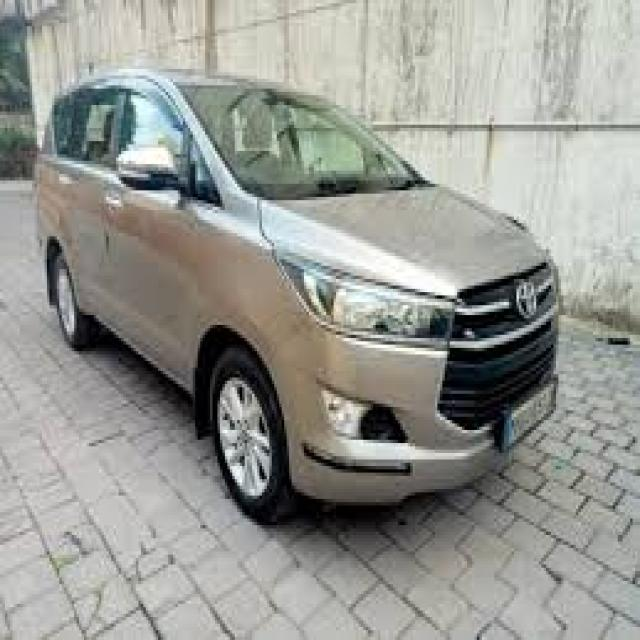light_vehicle: (34, 67, 560, 520)
